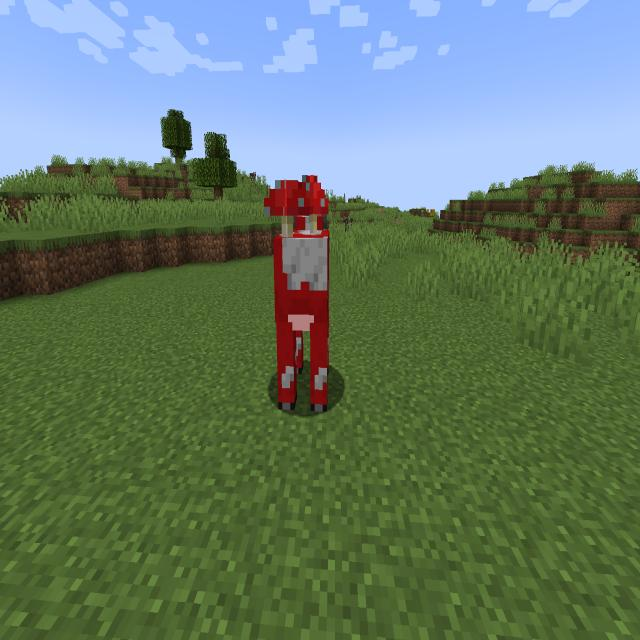Mooshroom: (256, 160, 356, 438)
